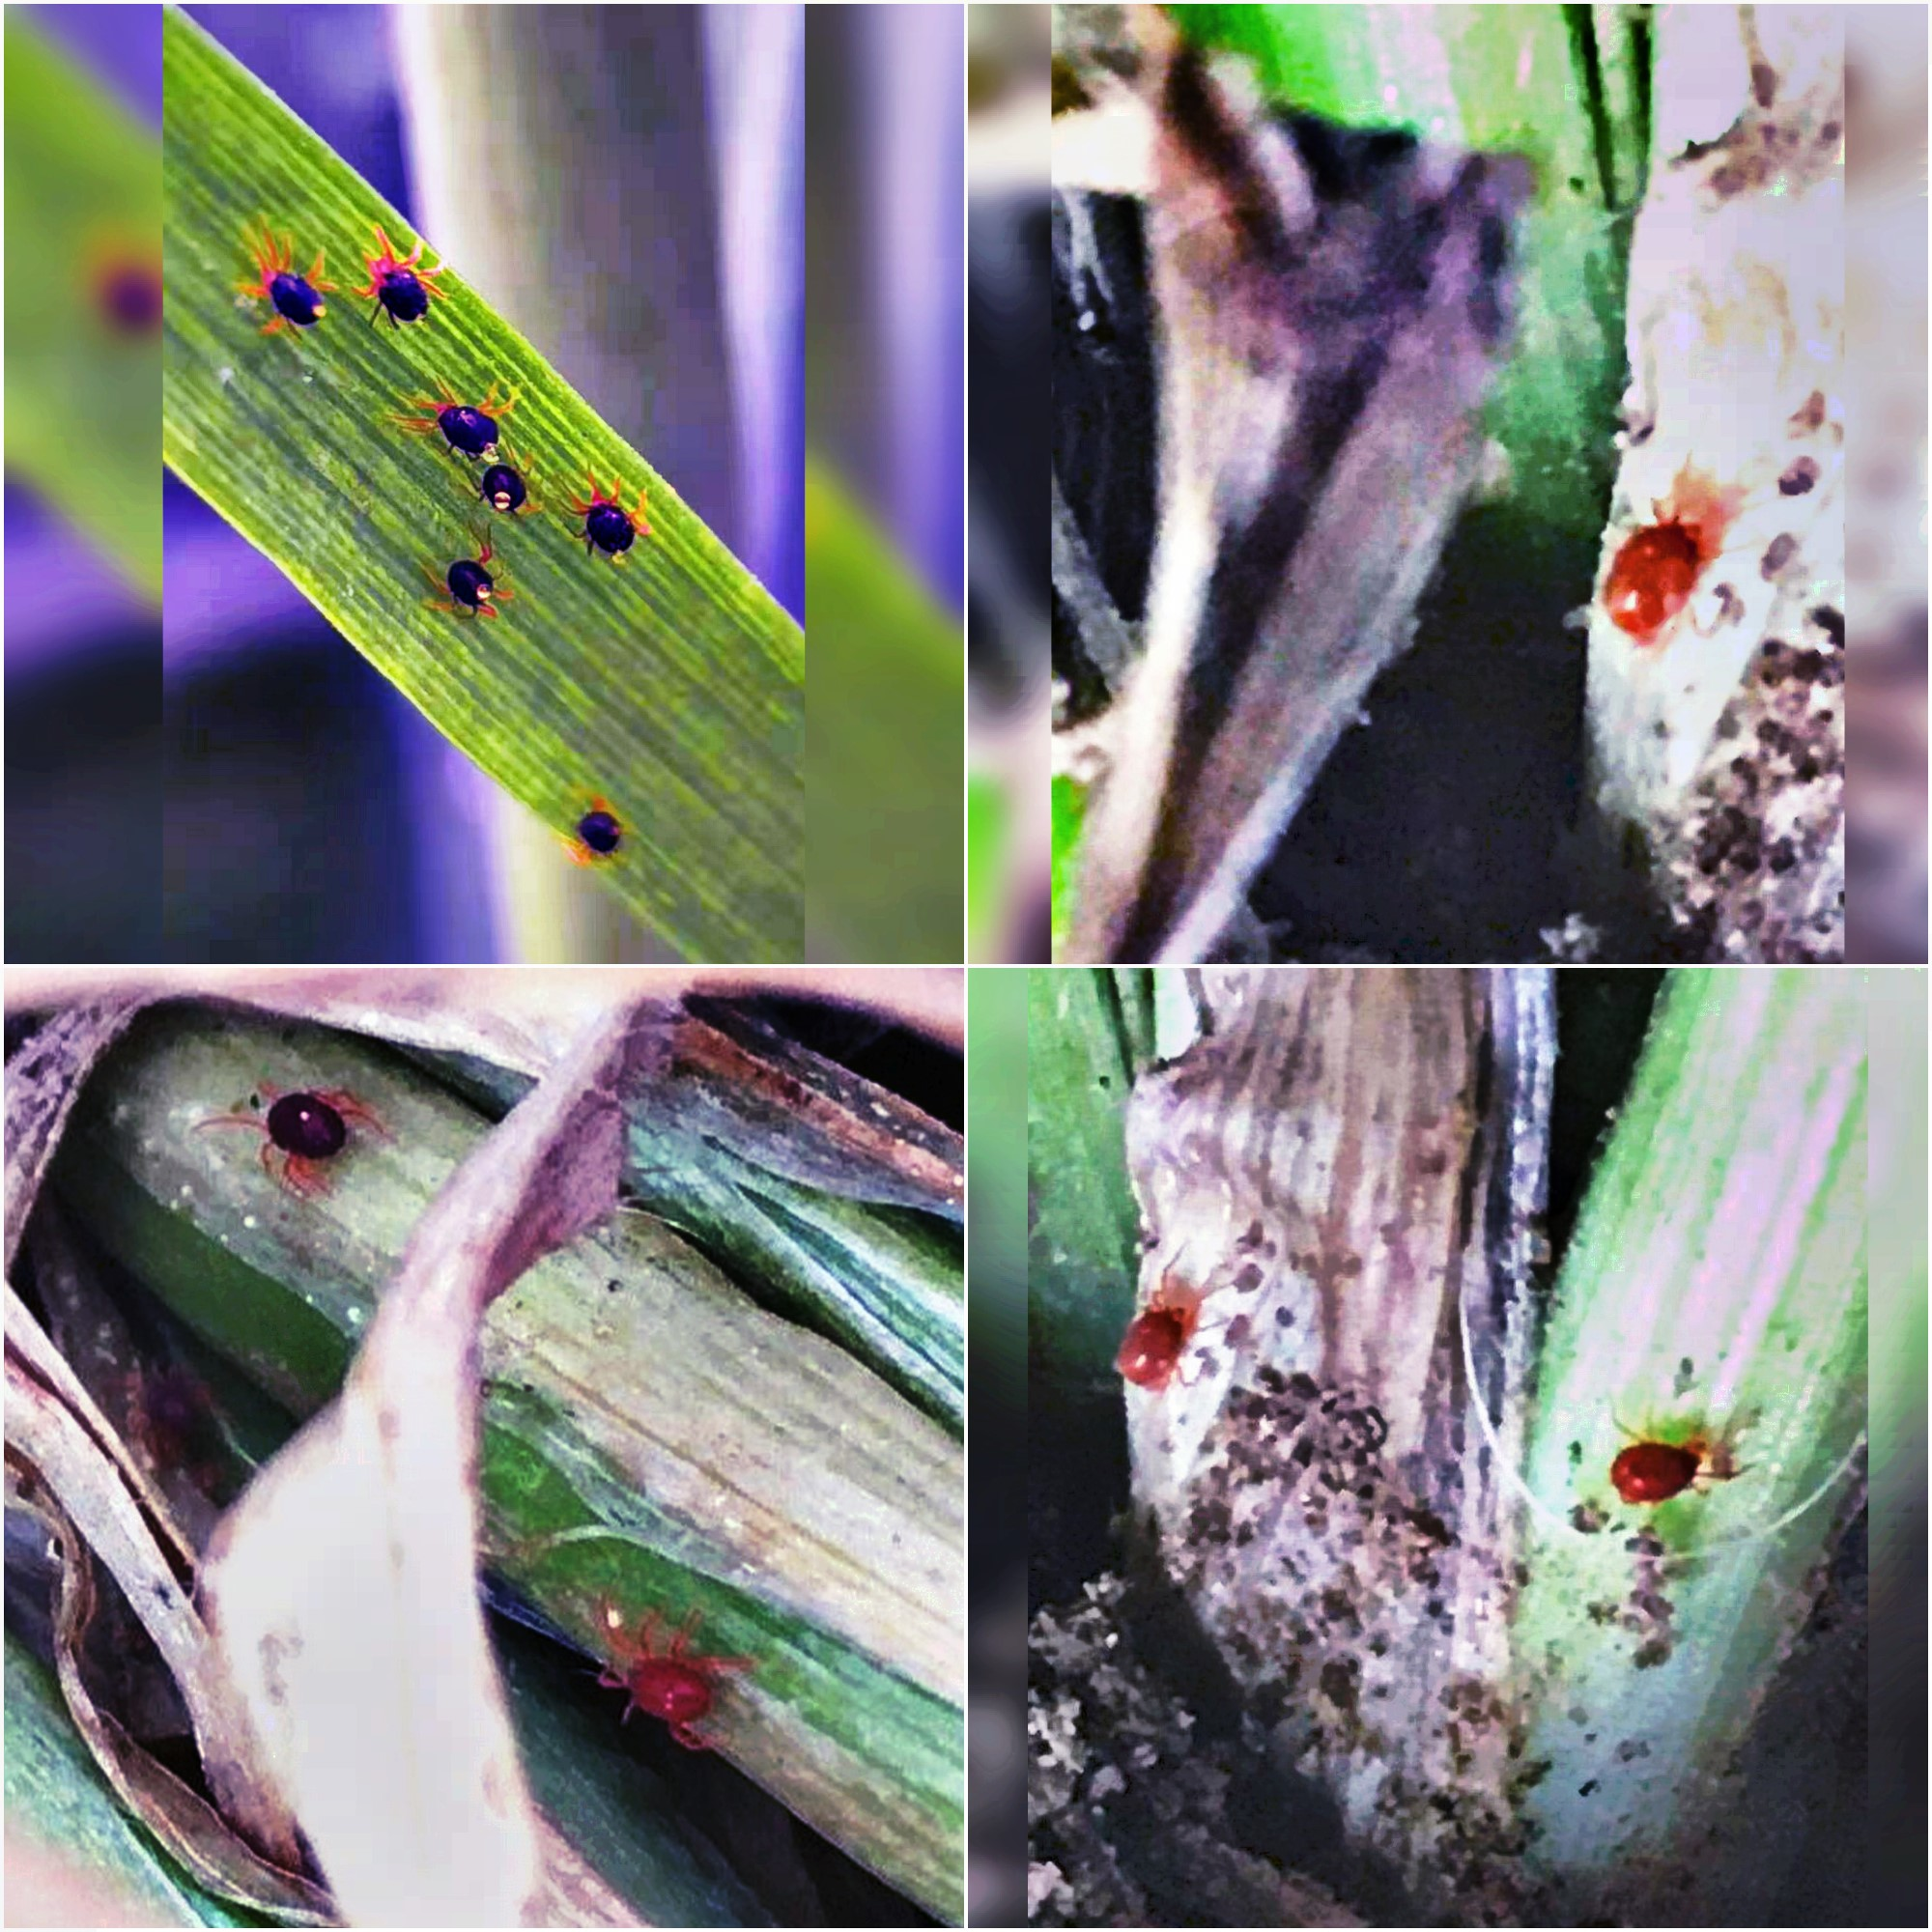Wheat Red Spider: (564, 1596, 794, 1775), (216, 202, 456, 350)
